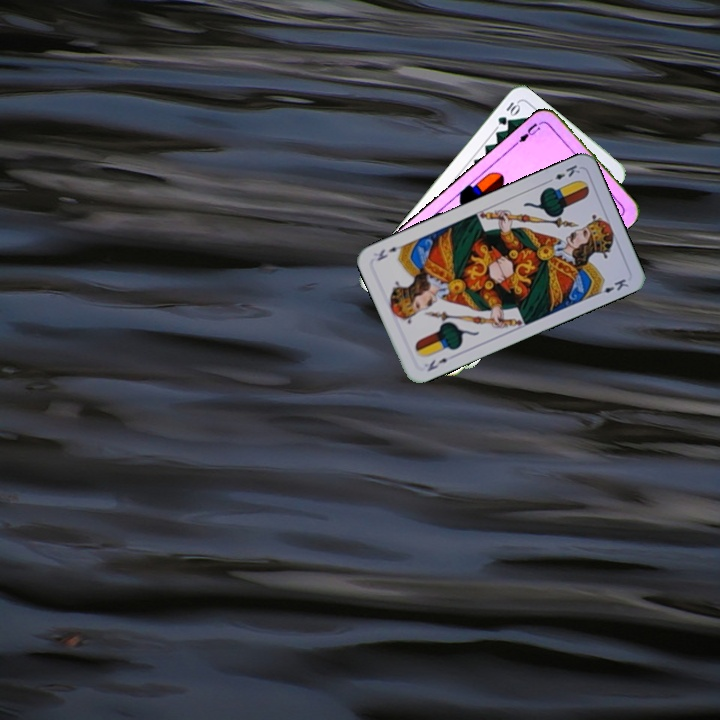EK: (543, 160, 583, 186), (423, 354, 450, 374)
EU: (512, 117, 546, 147)
G10: (493, 98, 522, 128)
